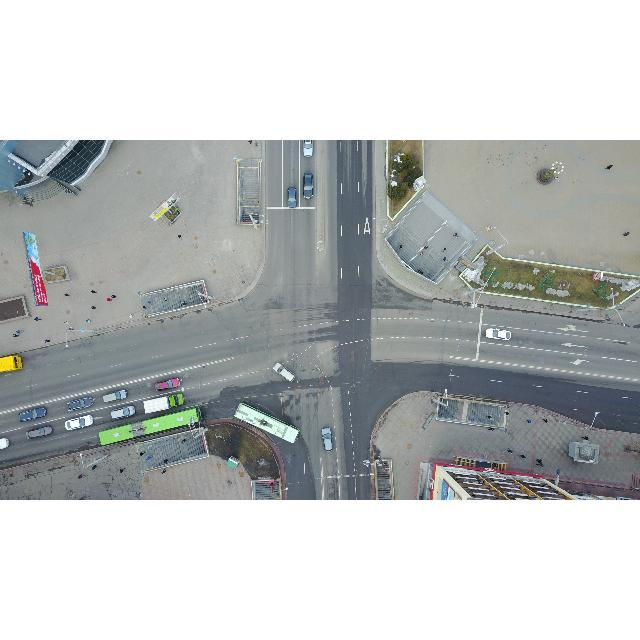vehicle: (142, 392, 186, 416), (64, 414, 94, 432), (16, 406, 48, 422), (272, 362, 296, 382), (485, 326, 513, 342), (26, 424, 54, 440), (66, 396, 94, 412), (107, 404, 137, 418), (154, 376, 180, 392), (320, 427, 334, 453), (101, 388, 127, 402), (302, 172, 314, 200), (286, 186, 298, 210), (301, 140, 315, 156)
